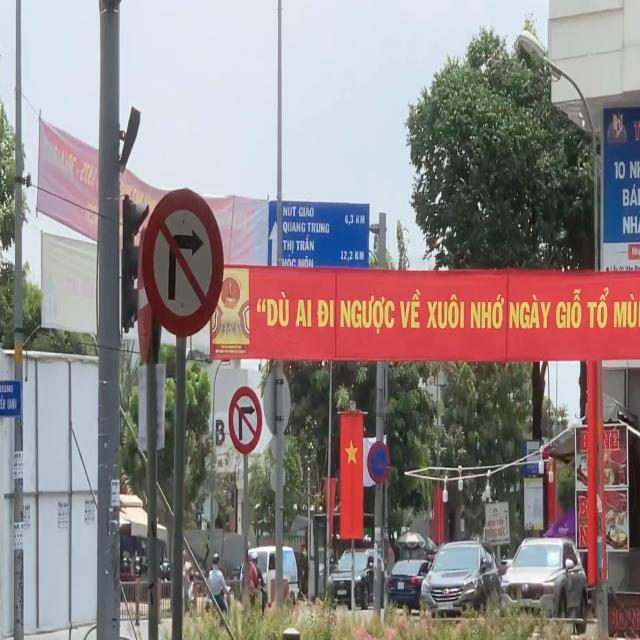Cam do: (367, 440, 390, 484)
Cam re phai: (142, 188, 225, 337), (228, 386, 262, 455)
